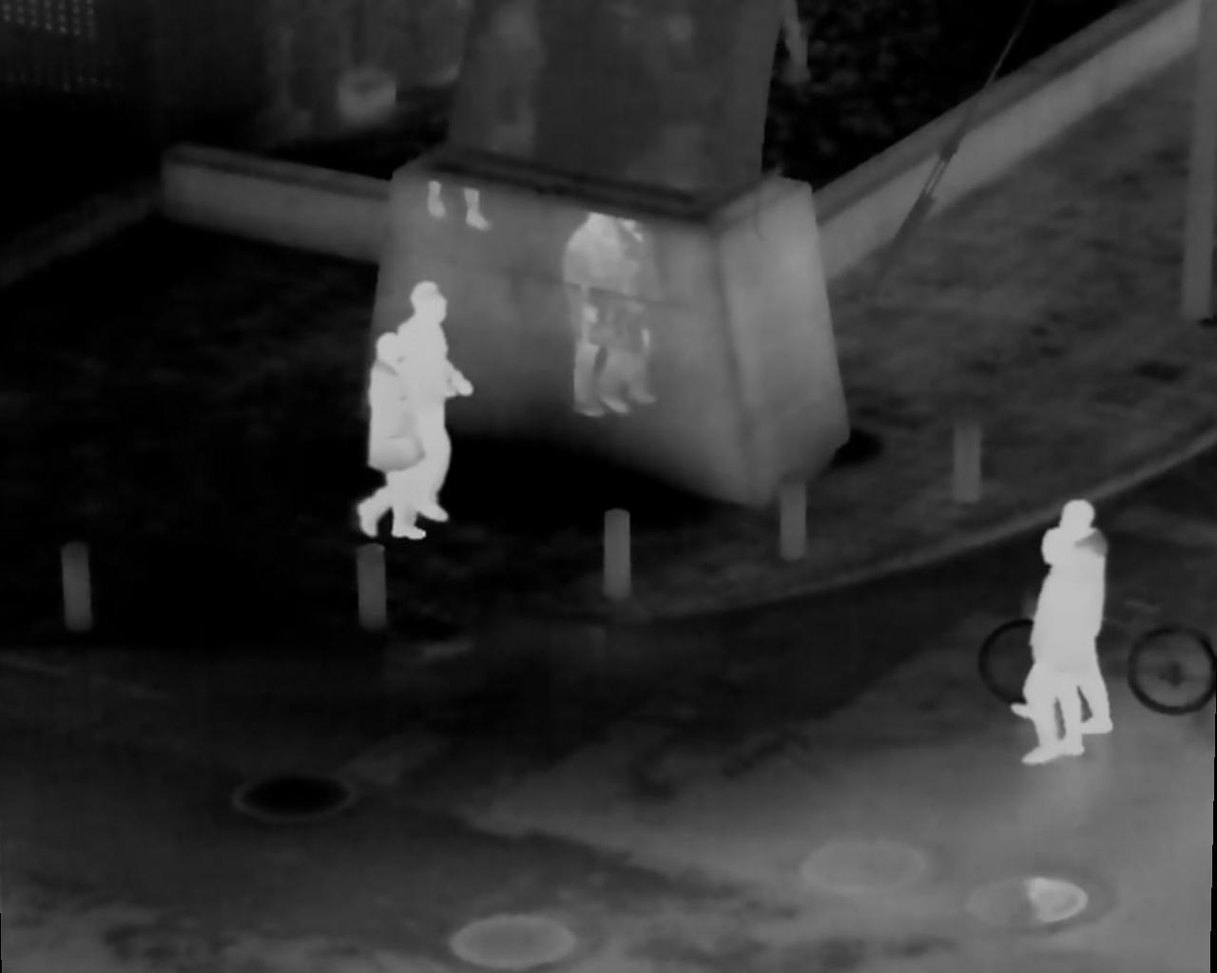person: (1011, 499, 1116, 736), (410, 280, 476, 528), (357, 329, 426, 542), (1022, 528, 1083, 767)
